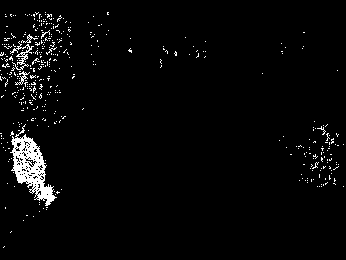person: (8, 130, 59, 209)
